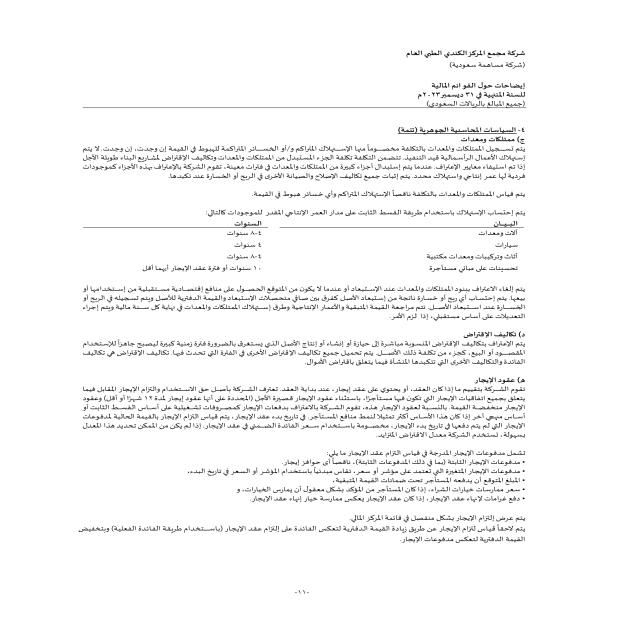notes: (424, 79, 540, 93)
table: (47, 214, 555, 273)
